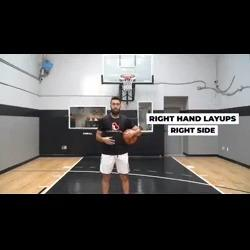BasketBall: (121, 127, 139, 145)
